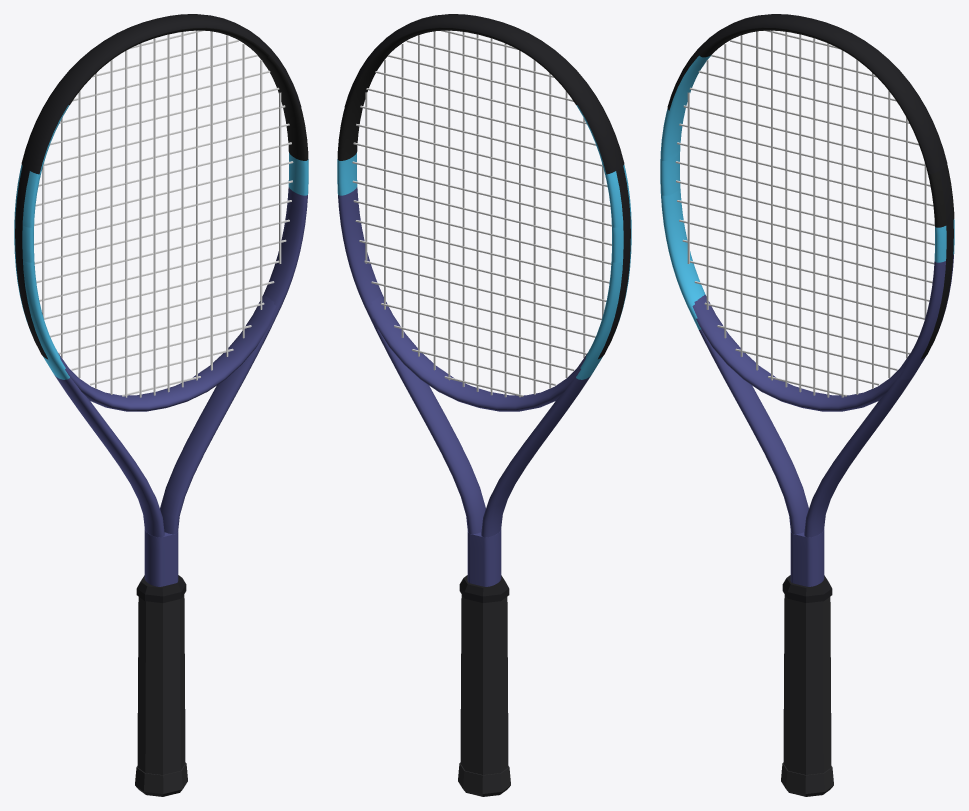
File: dunlop-fx-team-100-2025.glb
3 renders of one model, left to right at view 1: azimuth 30°, elevation 25°; view 2: azimuth 150°, elevation 25°; view 3: azimuth 330°, elevation 25°, orthographic.
Parts seen in each view (by area): view 1: frame, strings_mains, strings_crosses, grip, bumper, grommets, butt_cap, collar; view 2: frame, strings_mains, strings_crosses, grip, bumper, grommets, butt_cap, collar; view 3: frame, strings_mains, strings_crosses, grip, bumper, grommets, butt_cap, collar.
Boxes of the visible parts, x1,y1,x2,y2 form: frame: (14,27,308,586); strings_mains: (42,30,281,397); strings_crosses: (34,30,293,396); grip: (137,594,185,774); bumper: (21,14,301,174); grommets: (15,166,47,359); butt_cap: (135,762,187,796); collar: (136,575,186,602); frame: (337,27,631,586); strings_mains: (365,30,604,397); strings_crosses: (352,30,611,396); grip: (460,594,508,774); bumper: (344,14,624,174); grommets: (598,166,630,359); butt_cap: (458,762,510,796); collar: (459,575,509,602); frame: (660,27,954,586); strings_mains: (687,30,926,397); strings_crosses: (675,30,934,396); grip: (783,594,831,774); bumper: (667,14,947,174); grommets: (921,166,953,359); butt_cap: (781,762,833,796); collar: (782,575,832,602).
Bounding box in the file's own units: 0.2687 × 0.6861 × 0.0377.
